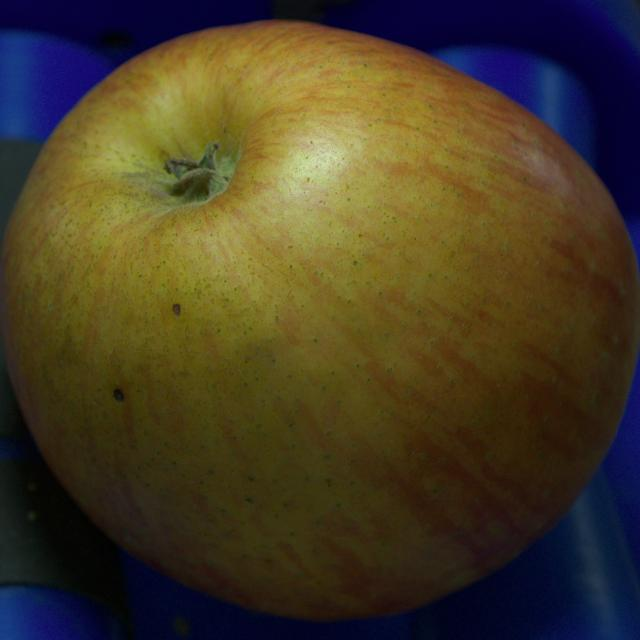apple: (0, 21, 639, 619)
pest: (114, 388, 123, 402), (173, 303, 180, 315)
